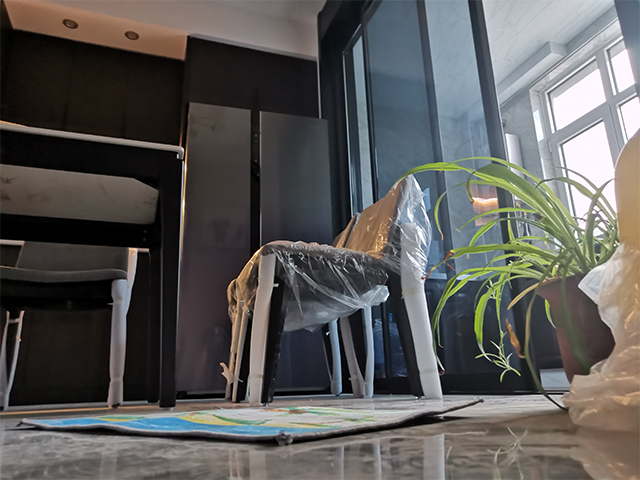carpet: (13, 397, 484, 448)
stool: (222, 169, 445, 408), (1, 241, 141, 411)
table: (1, 117, 189, 408)
